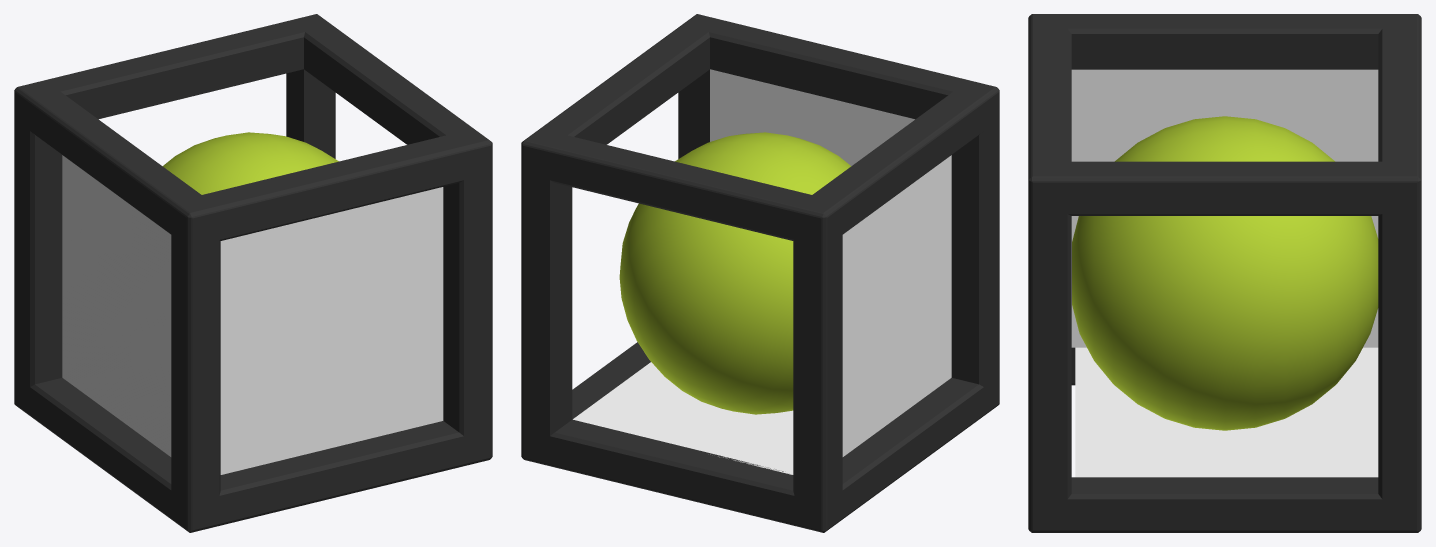
File: pointCube.FBX
3 renders of one model, left to right at view 1: azimuth 30°, elevation 25°; view 2: azimuth 150°, elevation 25°; view 3: azimuth 270°, elevation 25°, orthographic. The views are drawn at different scales.
Parts seen in each view (by area): view 1: Box01; view 2: Box01; view 3: Box01.
Part boxes in pixels (<box>): Box01: <box>14,14,492,532</box>; Box01: <box>521,14,999,532</box>; Box01: <box>1028,14,1421,532</box>.
Bounding box in the file's own units: 100 × 100 × 100.
